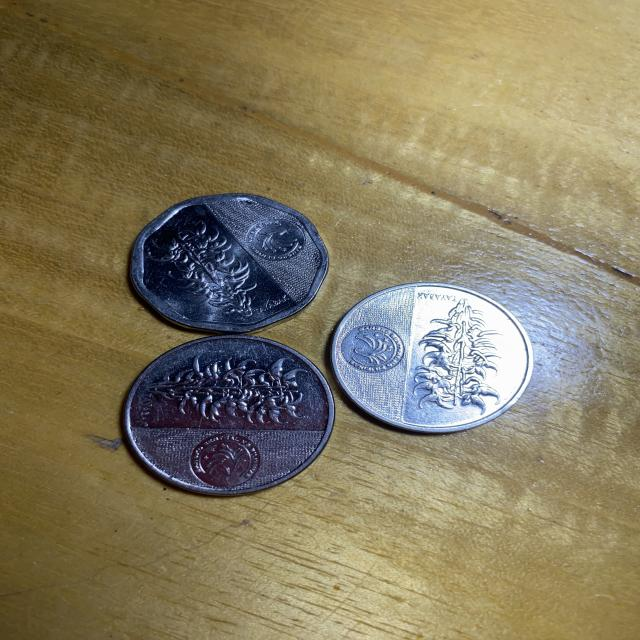5_New_Back: (139, 211, 269, 322), (138, 348, 310, 426)
